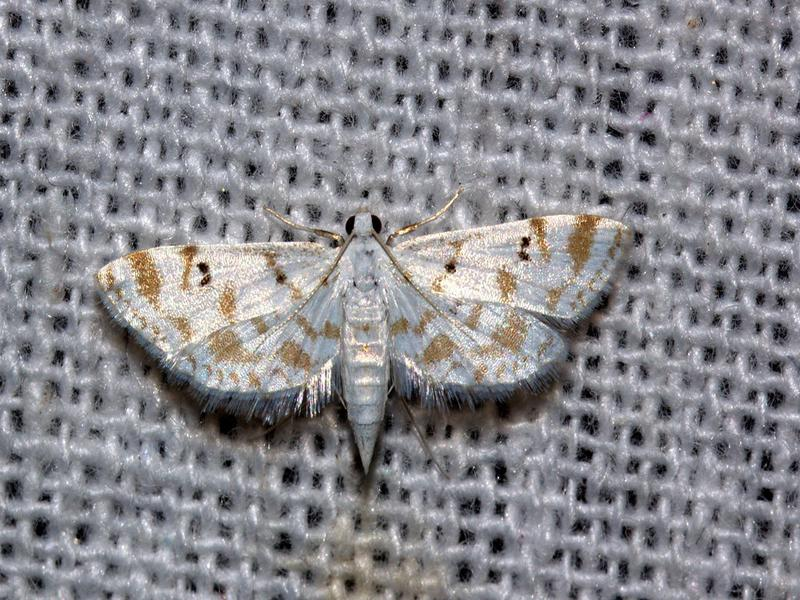Rice_case_worm: (66, 194, 648, 470)
